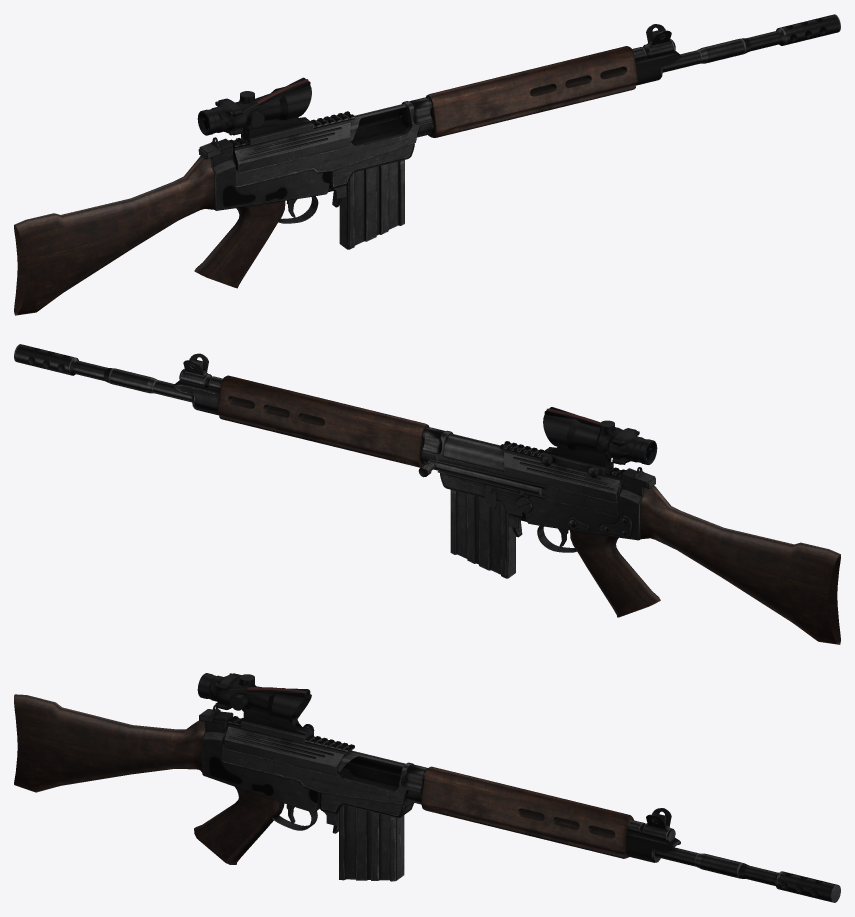
The model's file is FAL_ACOG gun.fbx.
The picture shows the model from 3 angles, top to bottom: view 1: azimuth 30°, elevation 25°; view 2: azimuth 150°, elevation 25°; view 3: azimuth 330°, elevation 25°; orthographic projection.
Visible parts, largest first — view 1: FAL_ACOG; view 2: FAL_ACOG; view 3: FAL_ACOG.
Part boxes in pixels (bbox=[...]): FAL_ACOG: bbox=[14, 14, 840, 315]; FAL_ACOG: bbox=[14, 344, 840, 644]; FAL_ACOG: bbox=[14, 673, 840, 902].
Size of the model in its own units: 53.32 by 11.81 by 3.17.
